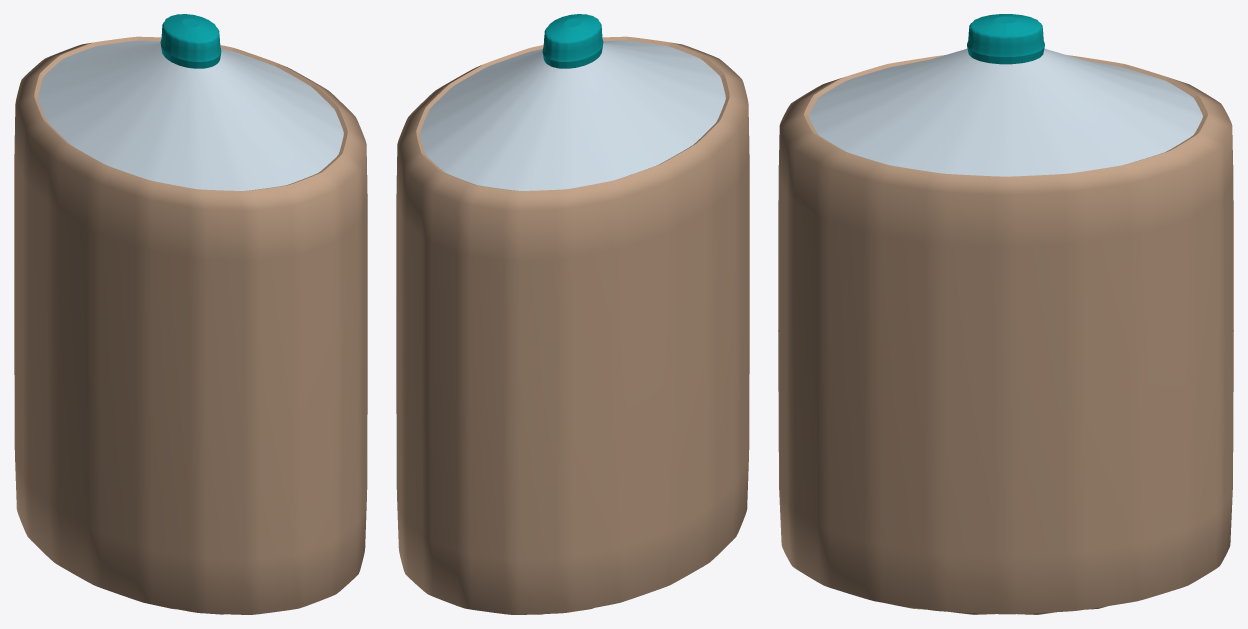
The model's file is bouteille orange.fbx.
3 views of the same model, side by side, from view 1: azimuth 30°, elevation 25°; view 2: azimuth 150°, elevation 25°; view 3: azimuth 270°, elevation 25° (orthographic). The views are drawn at different scales.
Visible parts, largest first — view 1: pCylinder1; view 2: pCylinder1; view 3: pCylinder1.
Boxes of the visible parts, x1,y1,x2,y2 form: pCylinder1: (14, 14, 367, 614); pCylinder1: (396, 14, 749, 614); pCylinder1: (778, 14, 1233, 614).
Bounding box in the file's own units: 3.08 × 5.46 × 4.23.
